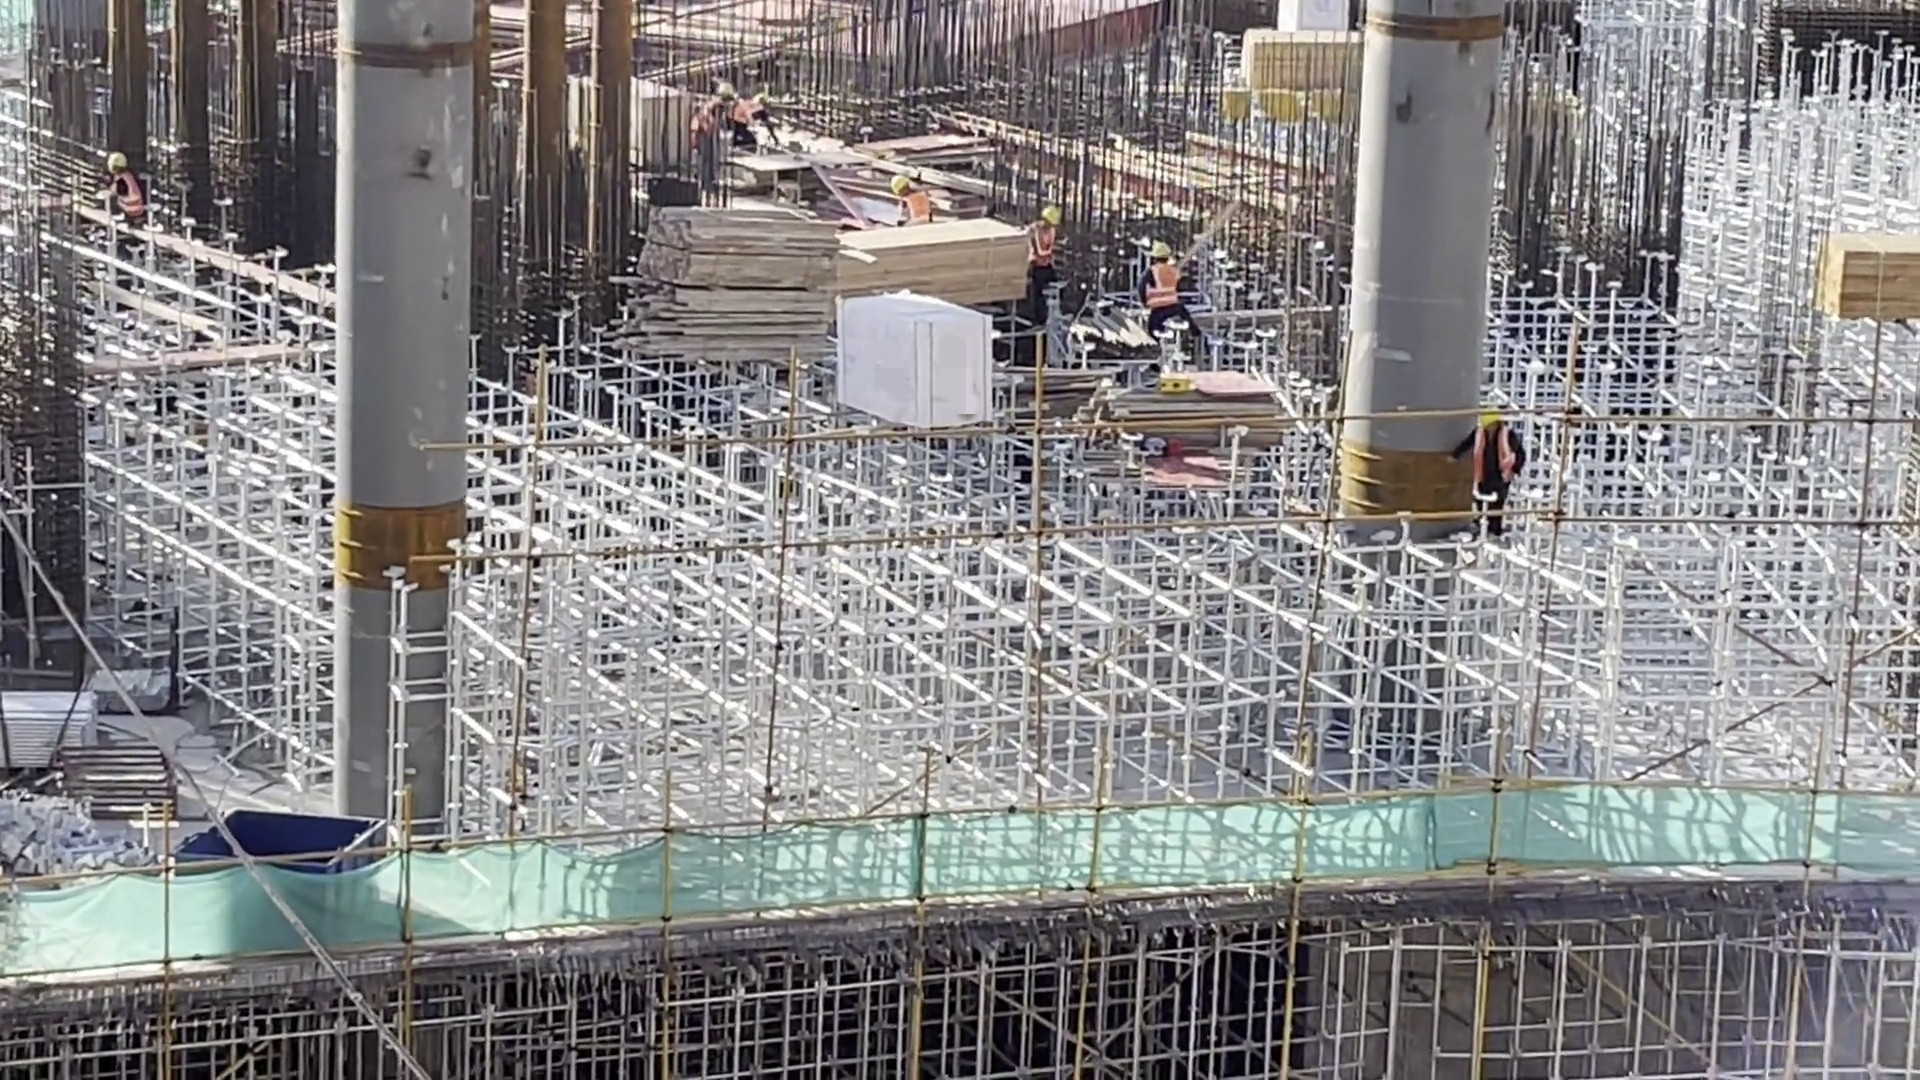board: (1093, 364, 1280, 454)
cutter: (736, 140, 875, 216)
helmet: (1145, 240, 1172, 259), (1040, 204, 1063, 226), (890, 175, 908, 196), (106, 152, 127, 168)
hopper: (184, 806, 400, 887)
person: (1448, 406, 1531, 540), (1136, 239, 1203, 341), (101, 152, 156, 244), (692, 85, 735, 194), (1027, 199, 1066, 294), (888, 173, 931, 227), (730, 97, 772, 146)
vest: (1469, 424, 1512, 487), (1142, 261, 1182, 311), (112, 171, 144, 218), (1031, 220, 1054, 266), (900, 192, 933, 220)
wood: (639, 207, 842, 371), (828, 214, 1034, 317), (1241, 29, 1384, 104), (1827, 226, 1920, 339)
